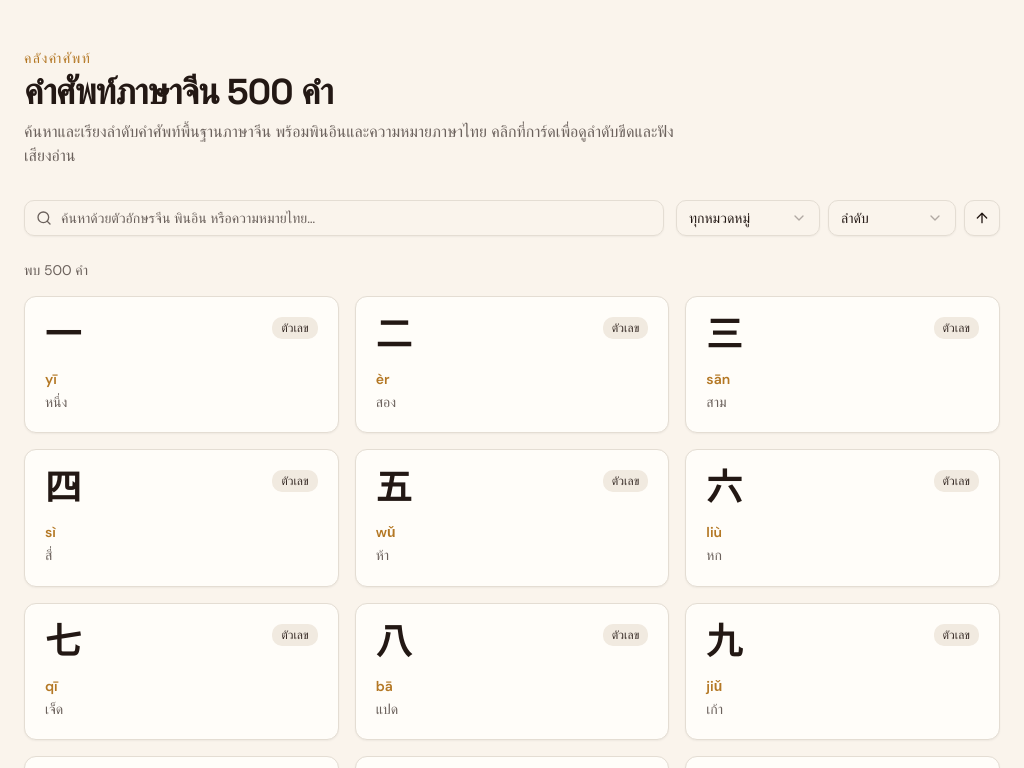
Test: VocabularyListPage › filters the list when searching by a Thai meaning
Type "ที่หนึ่ง" into the field named "ค้นหาคำศัพท์" at (344, 218), box [24, 200, 664, 236]
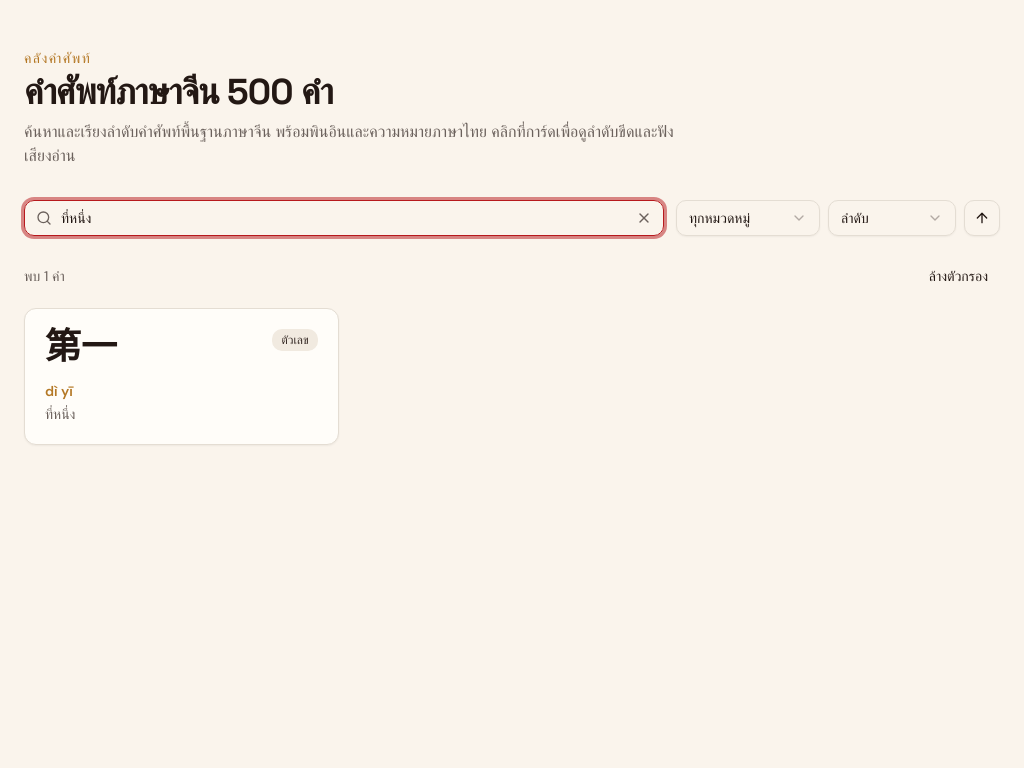
Check: the text "ที่หนึ่ง" is shown, box [45, 405, 76, 423]
Check: the text with test id "vocab.result_count" reads "พบ 1 คำ", box [24, 266, 65, 286]
